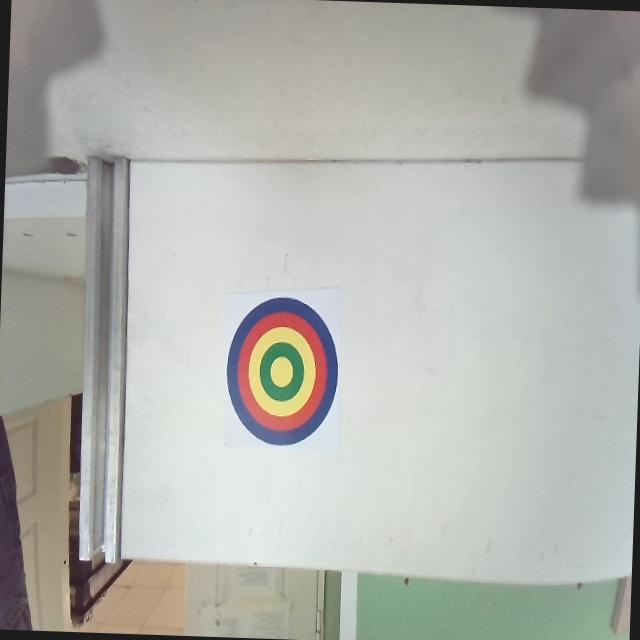cogn: (224, 294, 340, 448)
